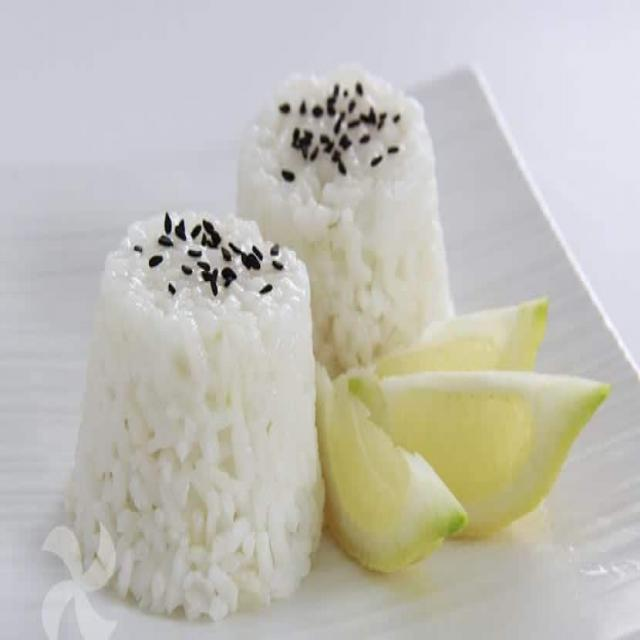nasi: (67, 206, 326, 606), (236, 70, 448, 377)
